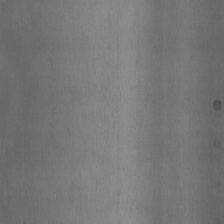oil_spot: (211, 96, 221, 112)
